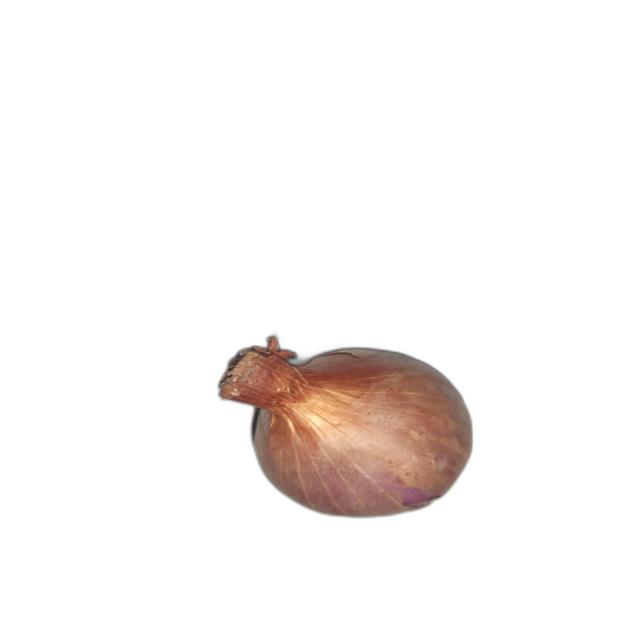onion: (218, 336, 475, 519)
